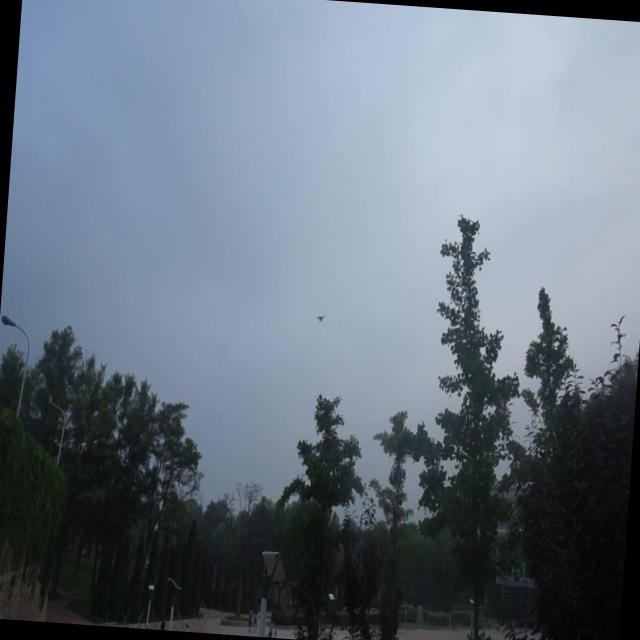drone: (313, 310, 328, 326)
